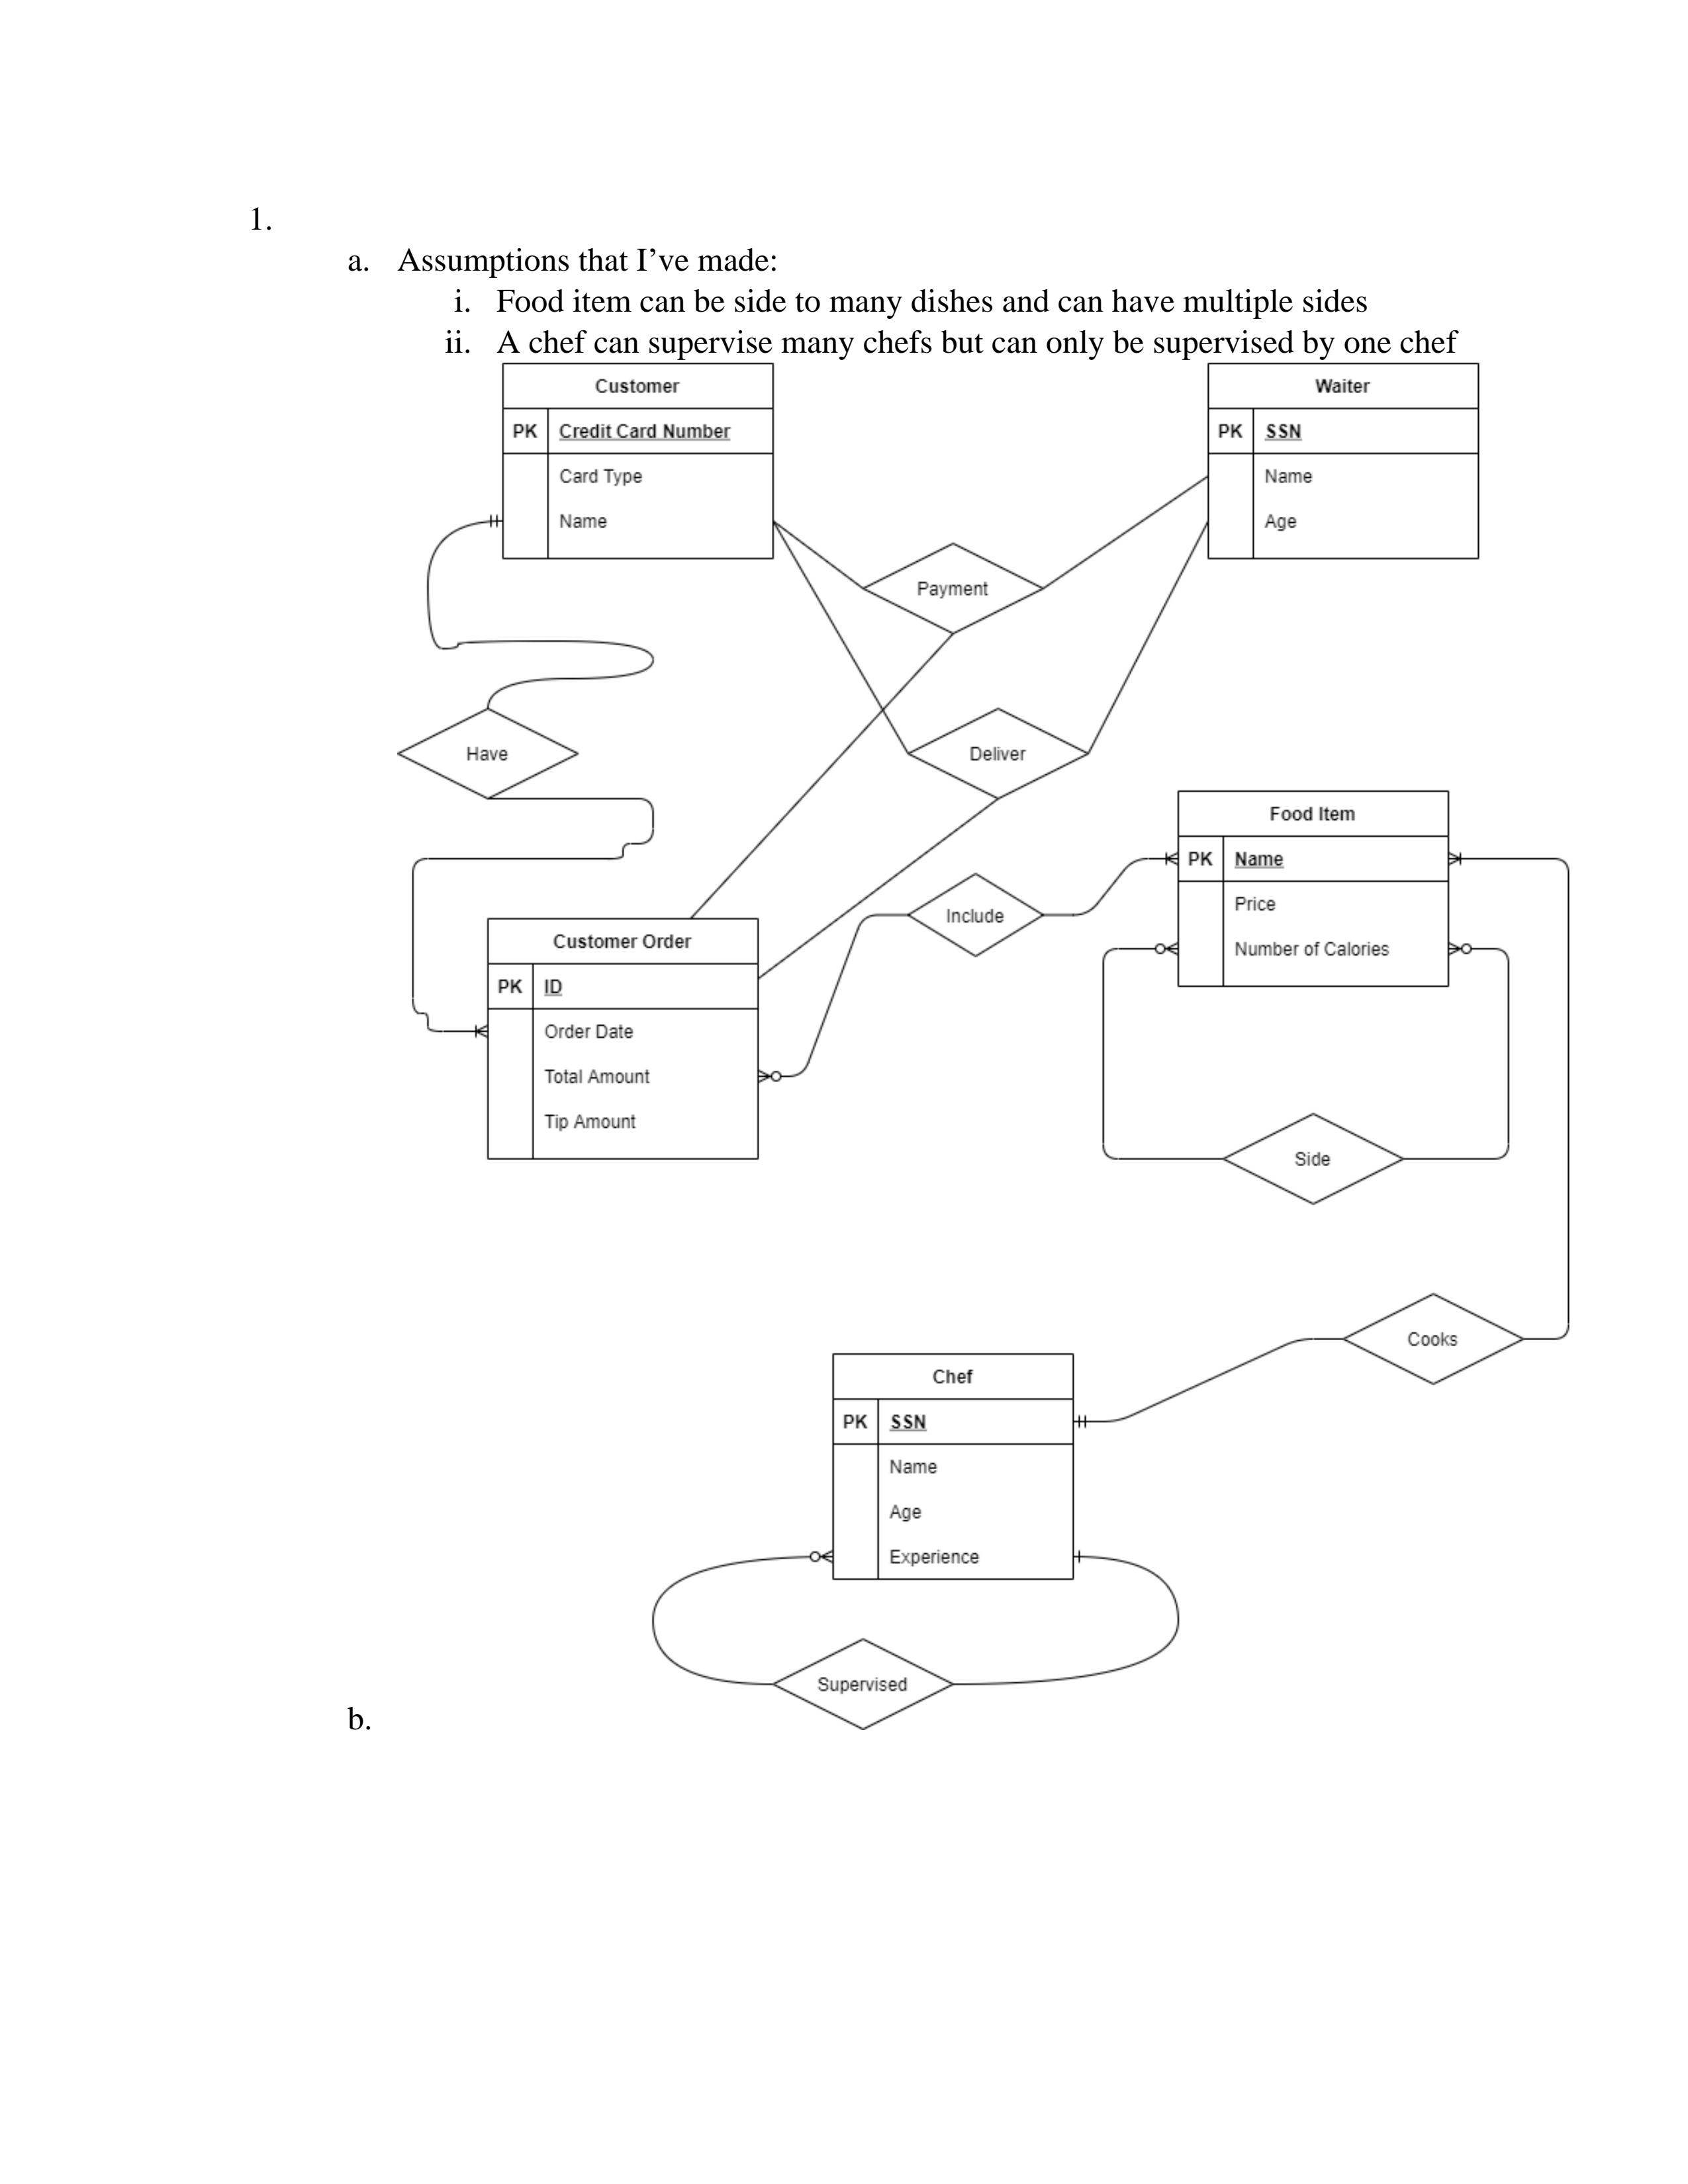Entity: (486, 916, 761, 1161), (832, 1351, 1076, 1581), (1206, 362, 1482, 562), (1176, 789, 1452, 989), (502, 362, 777, 562)
Relationship: (1223, 1111, 1404, 1205), (906, 707, 1089, 799), (1342, 1292, 1523, 1385), (771, 1638, 952, 1730), (397, 707, 580, 798), (862, 544, 1043, 635), (906, 872, 1044, 957)
